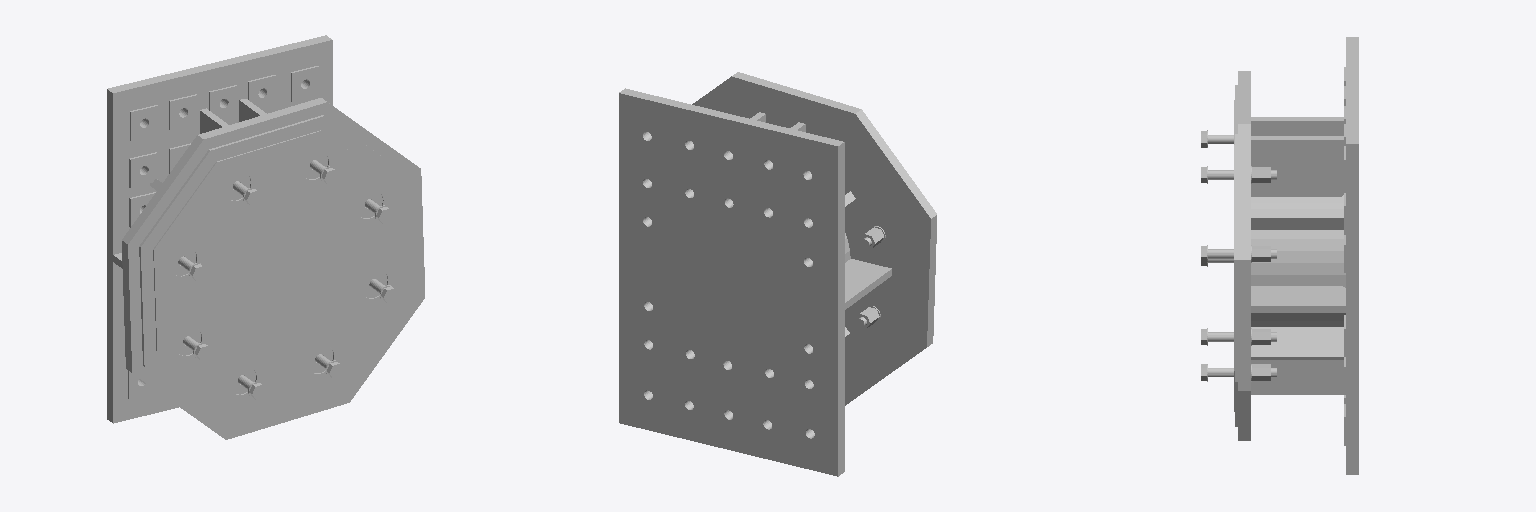
The model's file is plate.obj.
3 renders of one model, left to right at view 1: azimuth 30°, elevation 25°; view 2: azimuth 150°, elevation 25°; view 3: azimuth 270°, elevation 25°, orthographic.
Parts seen in each view (by area): view 1: product-55dc0a4b-0000-0ad8-3134-[number redacted]-body, product-[number redacted]-0000-817d-3134-[number redacted]-body, product-55dc0a4b-0000-0ae0-3134-[number redacted]-body, product-55dc0a4b-0000-0adc-3134-[number redacted]-body, product-55e68547-0000-2cf8-3134-[number redacted]-body, product-55e68547-0000-2cd7-3134-[number redacted]-body, product-55e68547-0000-2cdd-3134-[number redacted]-body, product-55e68547-0000-2d40-3134-[number redacted]-body, product-55e68547-0000-2d10-3134-[number redacted]-body, product-55e68547-0000-2d28-3134-[number redacted]-body; view 2: product-[number redacted]-0000-817d-3134-[number redacted]-body, product-55dc0a4b-0000-0adc-3134-[number redacted]-body, product-55ea88ed-0000-06fd-3134-[number redacted]-body; view 3: product-55dc0a4b-0000-0b08-3134-[number redacted]-body, product-[number redacted]-0000-817d-3134-[number redacted]-body, product-55dc0a4b-0000-0b50-3134-[number redacted]-body, product-55dc0a4b-0000-0adc-3134-[number redacted]-body, product-55dc0a4b-0000-0b48-3134-[number redacted]-body, product-55dc0a4b-0000-0af0-3134-[number redacted]-body, product-55dc0a4b-0000-0b58-3134-[number redacted]-body, product-55dc0a4b-0000-0ae8-3134-[number redacted]-body, product-55dc0a4b-0000-0b4c-3134-[number redacted]-body, product-55dc0a4b-0000-0b00-3134-[number redacted]-body, product-55dc0a4b-0000-0ae0-3134-[number redacted]-body, product-55dc0a4b-0000-0b81-3134-[number redacted]-body (+3 smaller).
Boxes of the visible parts, x1,y1,x2,y2 form: product-55dc0a4b-0000-0ad8-3134-[number redacted]-body: [153, 130, 403, 414]; product-[number redacted]-0000-817d-3134-[number redacted]-body: [107, 35, 332, 423]; product-55dc0a4b-0000-0ae0-3134-[number redacted]-body: [139, 115, 415, 428]; product-55dc0a4b-0000-0adc-3134-[number redacted]-body: [122, 98, 424, 439]; product-55e68547-0000-2cf8-3134-[number redacted]-body: [169, 94, 197, 129]; product-55e68547-0000-2cd7-3134-[number redacted]-body: [130, 105, 158, 140]; product-55e68547-0000-2cdd-3134-[number redacted]-body: [129, 152, 157, 187]; product-55e68547-0000-2d40-3134-[number redacted]-body: [291, 66, 318, 101]; product-55e68547-0000-2d10-3134-[number redacted]-body: [209, 85, 237, 118]; product-55e68547-0000-2d28-3134-[number redacted]-body: [248, 75, 276, 107]; product-[number redacted]-0000-817d-3134-[number redacted]-body: [619, 88, 844, 476]; product-55dc0a4b-0000-0adc-3134-[number redacted]-body: [692, 72, 936, 405]; product-55ea88ed-0000-06fd-3134-[number redacted]-body: [845, 259, 891, 309]; product-55dc0a4b-0000-0b08-3134-[number redacted]-body: [1251, 230, 1345, 326]; product-[number redacted]-0000-817d-3134-[number redacted]-body: [1346, 37, 1358, 474]; product-55dc0a4b-0000-0b50-3134-[number redacted]-body: [1251, 136, 1343, 196]; product-55dc0a4b-0000-0adc-3134-[number redacted]-body: [1238, 71, 1250, 440]; product-55dc0a4b-0000-0b48-3134-[number redacted]-body: [1251, 360, 1343, 394]; product-55dc0a4b-0000-0af0-3134-[number redacted]-body: [1251, 327, 1343, 359]; product-55dc0a4b-0000-0b58-3134-[number redacted]-body: [1251, 286, 1345, 312]; product-55dc0a4b-0000-0ae8-3134-[number redacted]-body: [1251, 209, 1343, 229]; product-55dc0a4b-0000-0b4c-3134-[number redacted]-body: [1251, 117, 1343, 135]; product-55dc0a4b-0000-0b00-3134-[number redacted]-body: [1251, 195, 1343, 208]; product-55dc0a4b-0000-0ae0-3134-[number redacted]-body: [1235, 85, 1237, 426]; product-55dc0a4b-0000-0b81-3134-[number redacted]-body: [1201, 328, 1276, 345].
Bounding box in the file's own units: 1084 × 1150 × 498.